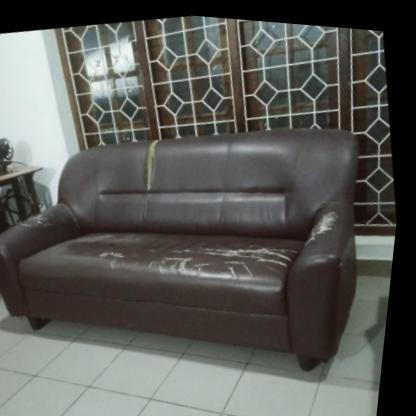Sofa: (0, 89, 403, 416)
